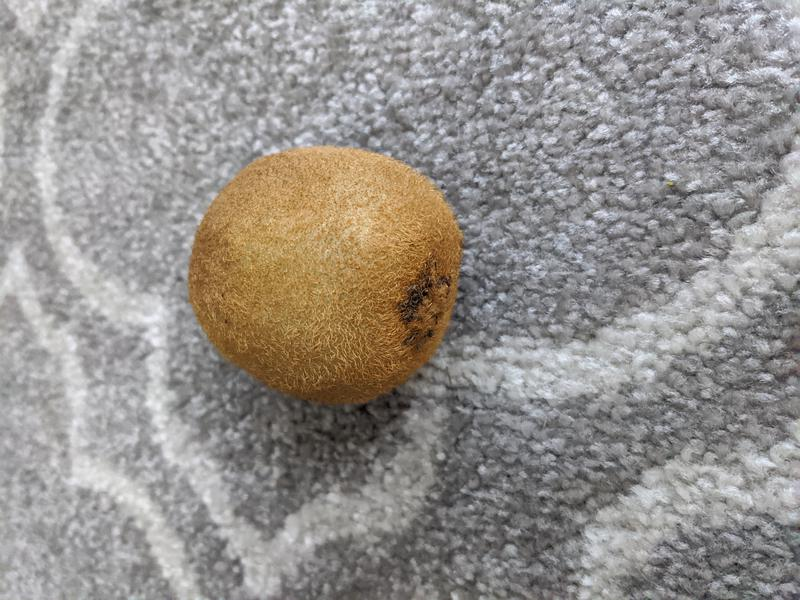kiwi: (187, 146, 462, 406)
